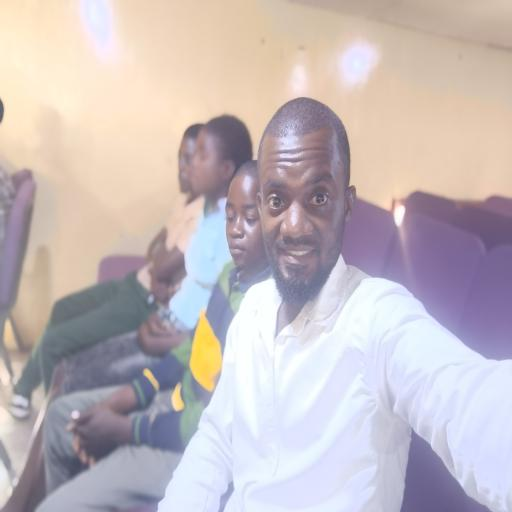MATTHIEU: (258, 96, 361, 312)
